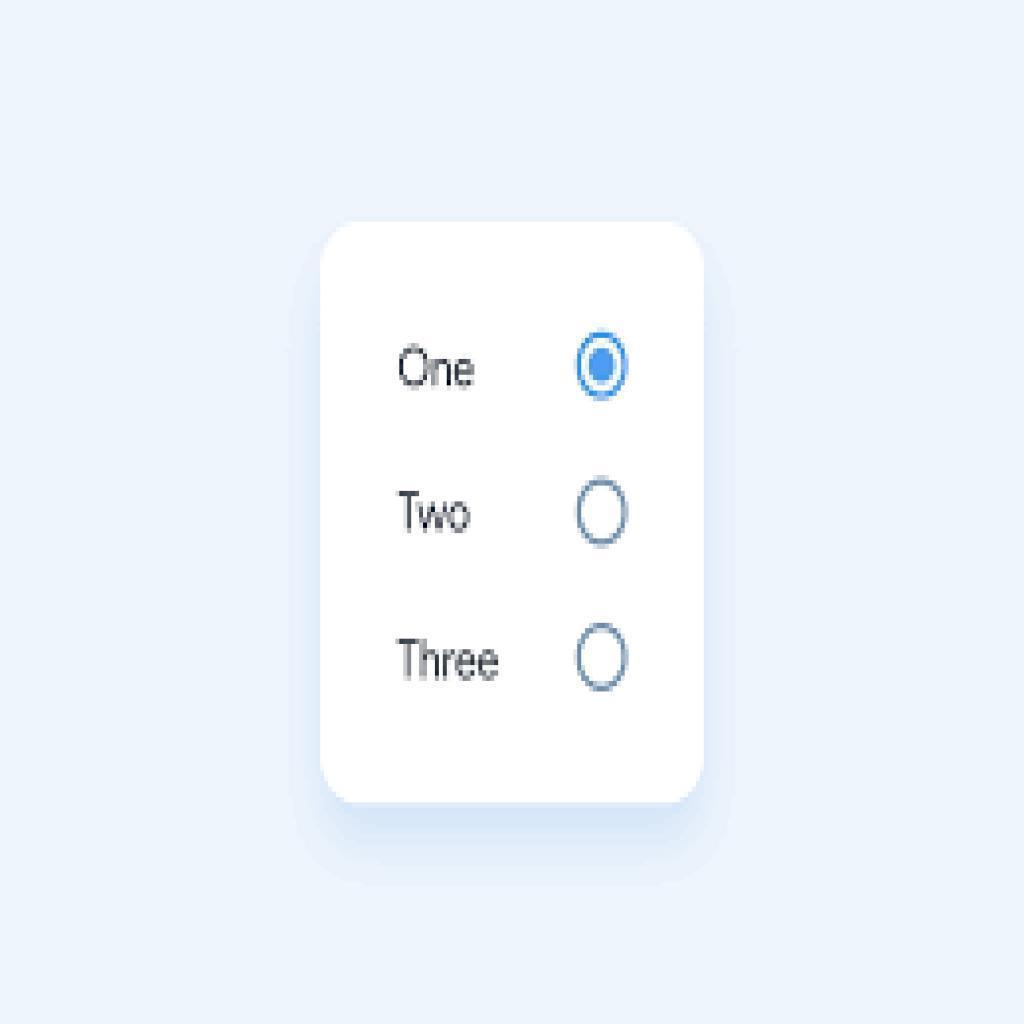radio: (575, 323, 632, 407), (570, 617, 632, 693), (572, 472, 631, 547)
